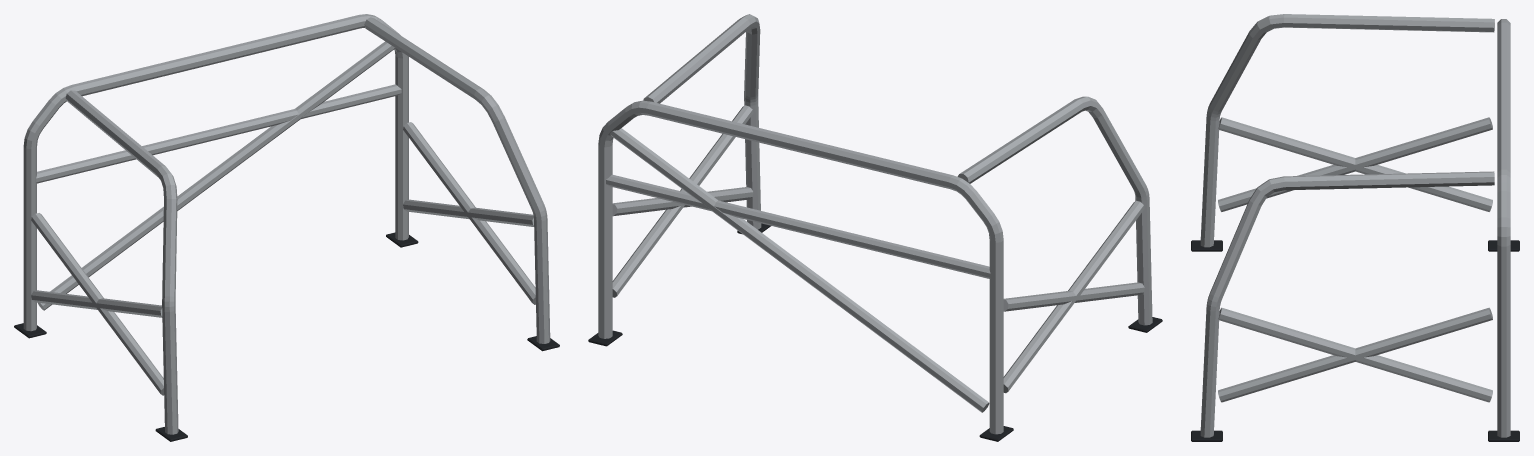
The model's file is apex_v8.glb.
The picture shows the model from 3 angles, left to right: view 1: azimuth 30°, elevation 25°; view 2: azimuth 150°, elevation 25°; view 3: azimuth 270°, elevation 25°; orthographic projection. The views are drawn at different scales.
Parts seen in each view (by area): view 1: model; view 2: model; view 3: model.
Boxes of the visible parts, bbox=[...] form: model: bbox=[14, 14, 559, 441]; model: bbox=[588, 14, 1162, 441]; model: bbox=[1191, 14, 1519, 441].
Bounding box in the file's own units: 1.49 × 0.857 × 1.03.
Materials: 2 (1 with a texture image).
